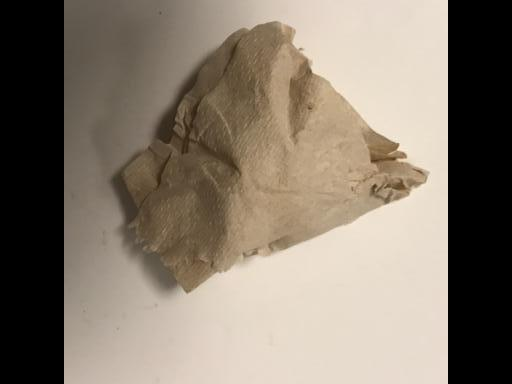trash: (114, 20, 431, 295)
